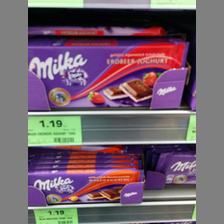chocolate: (27, 43, 188, 109), (29, 168, 144, 204)
